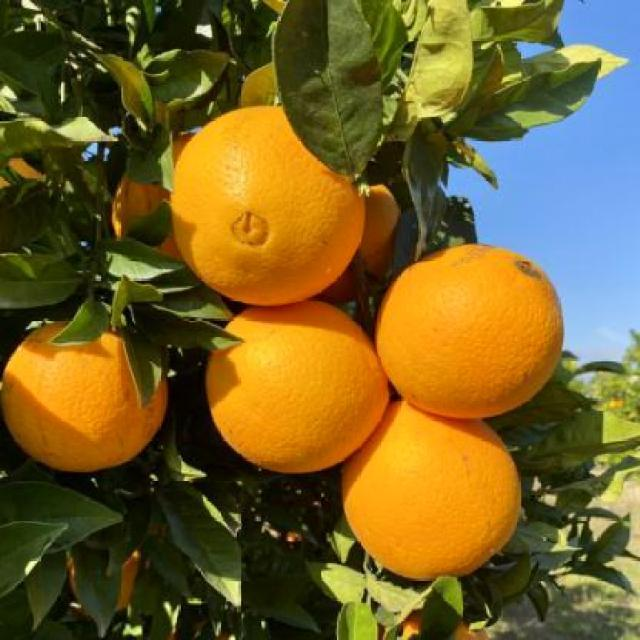Jeruk Sudah Matang: (174, 110, 371, 306), (382, 243, 564, 423), (342, 397, 526, 572), (202, 298, 388, 470), (0, 300, 166, 458)
